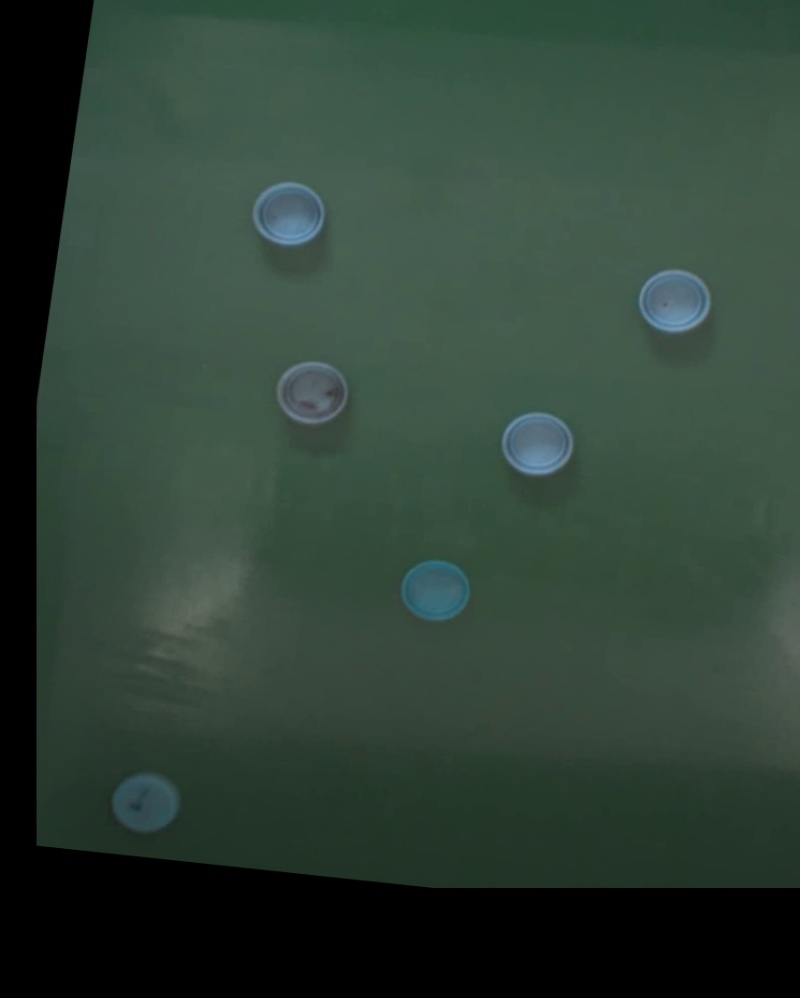Light Blue: (249, 178, 329, 250), (271, 358, 352, 429), (636, 268, 716, 339), (498, 410, 578, 480), (395, 557, 475, 625), (105, 770, 185, 836)
